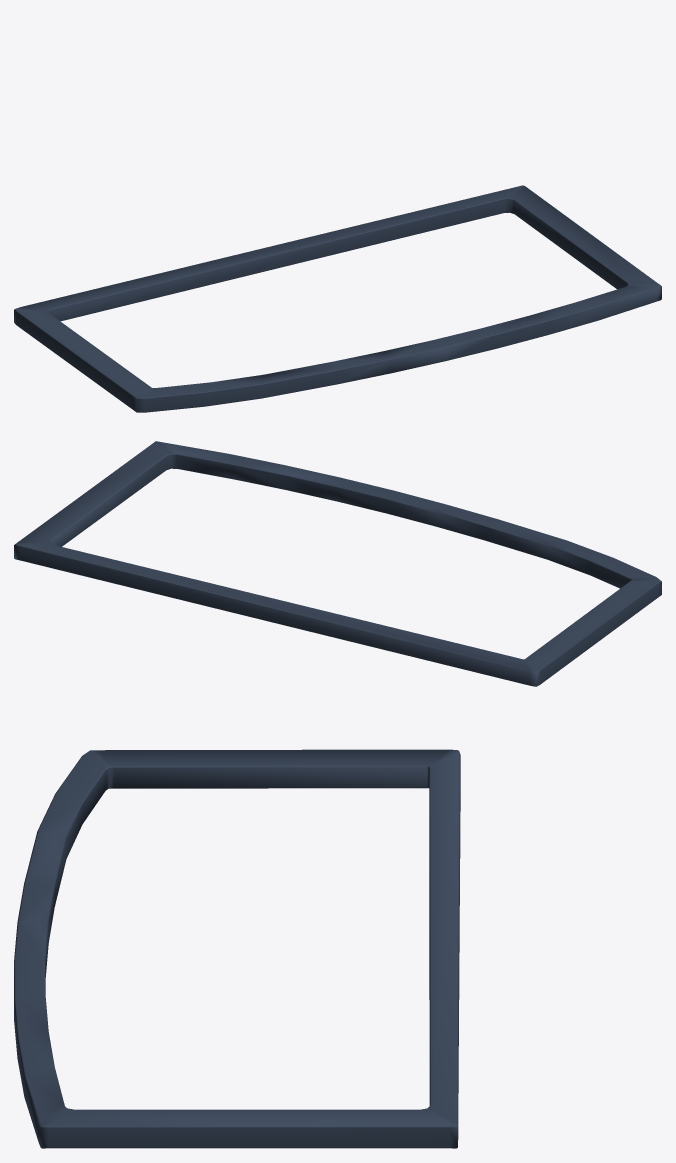
Rendered from DoormeshMicrowaveDoorC2_1_GeomSubset_1.obj.
The picture shows the model from 3 angles, top to bottom: view 1: azimuth 30°, elevation 25°; view 2: azimuth 150°, elevation 25°; view 3: azimuth 270°, elevation 25°; orthographic projection. The views are drawn at different scales.
Parts seen in each view (by area): view 1: DoormeshMicrowaveDoorC2_1_GeomSubset_1; view 2: DoormeshMicrowaveDoorC2_1_GeomSubset_1; view 3: DoormeshMicrowaveDoorC2_1_GeomSubset_1.
Part boxes in pixels (bbox=[...]): DoormeshMicrowaveDoorC2_1_GeomSubset_1: bbox=[14, 185, 661, 412]; DoormeshMicrowaveDoorC2_1_GeomSubset_1: bbox=[14, 441, 661, 686]; DoormeshMicrowaveDoorC2_1_GeomSubset_1: bbox=[14, 749, 460, 1148].
Size of the model in its own units: 0.4539 by 0.158 by 0.3292.
